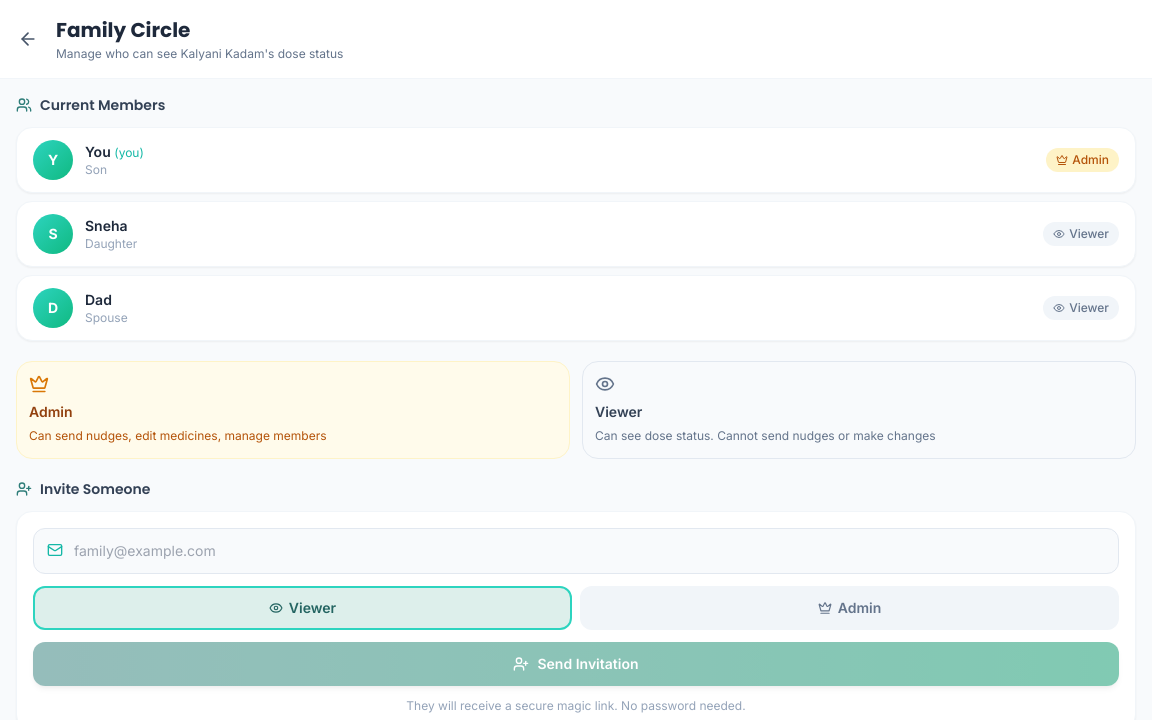
Test: Phase 3 Screens: Auth, Consent, and Family Invitation › handles sending invitation in InviteScreen
This screenshot has width=1152, height=720.
Step 1. Type "priya.kadam@example.com" into the field with placeholder "family@example.com" → (576, 550), box [33,528,1119,574]
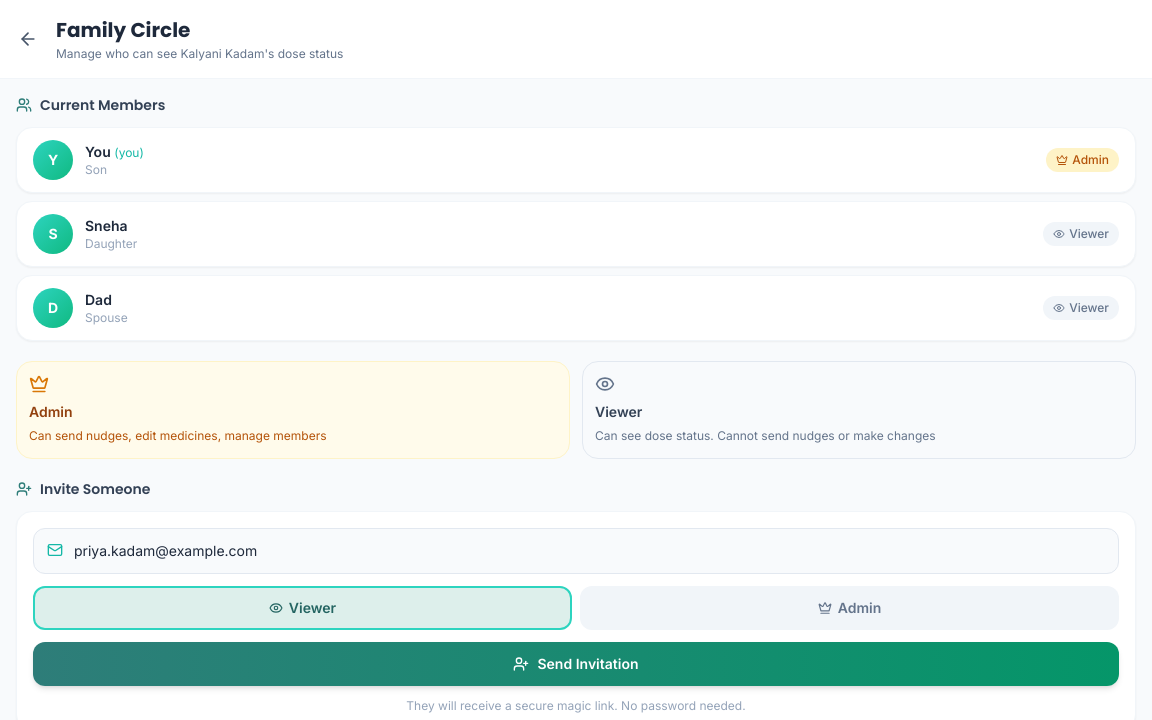
Step 2. Click the button "Send Invitation" → (576, 664), box [33,642,1119,686]
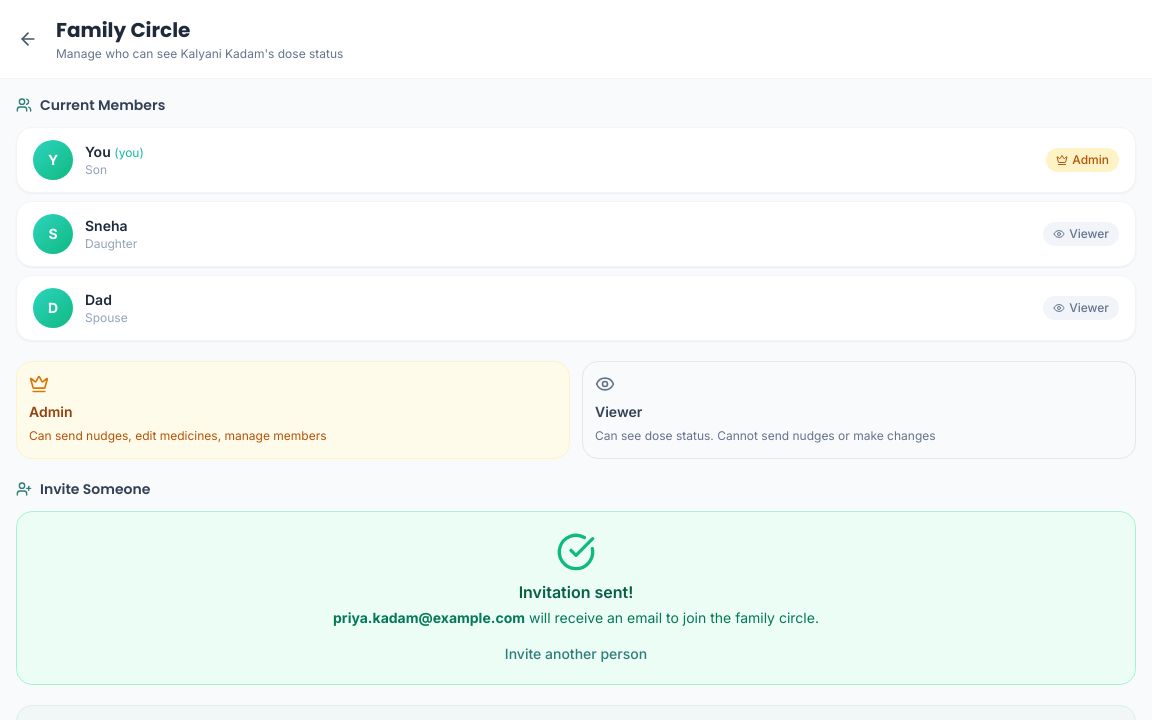
Check: the text "Invitation sent!" is shown, box [519,580,633,604]
